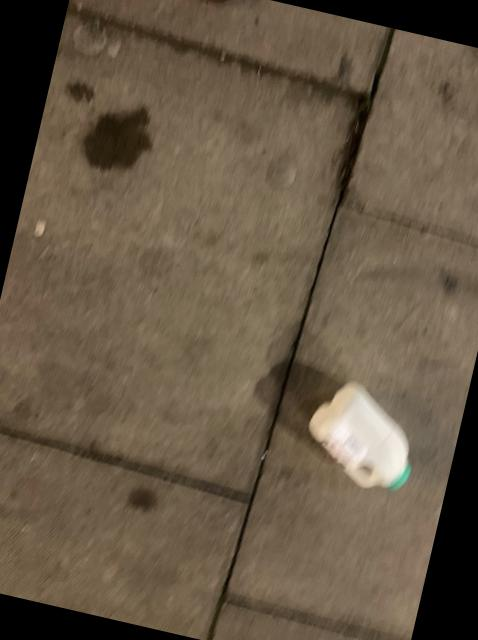plastic: (307, 382, 408, 490)
